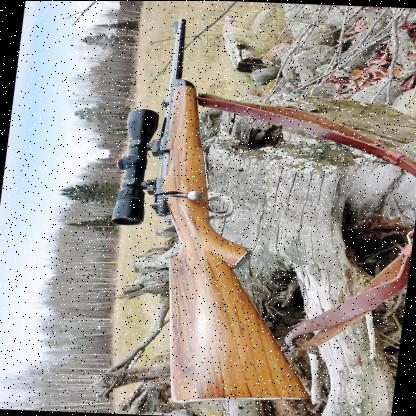rifle: (87, 18, 355, 410)
